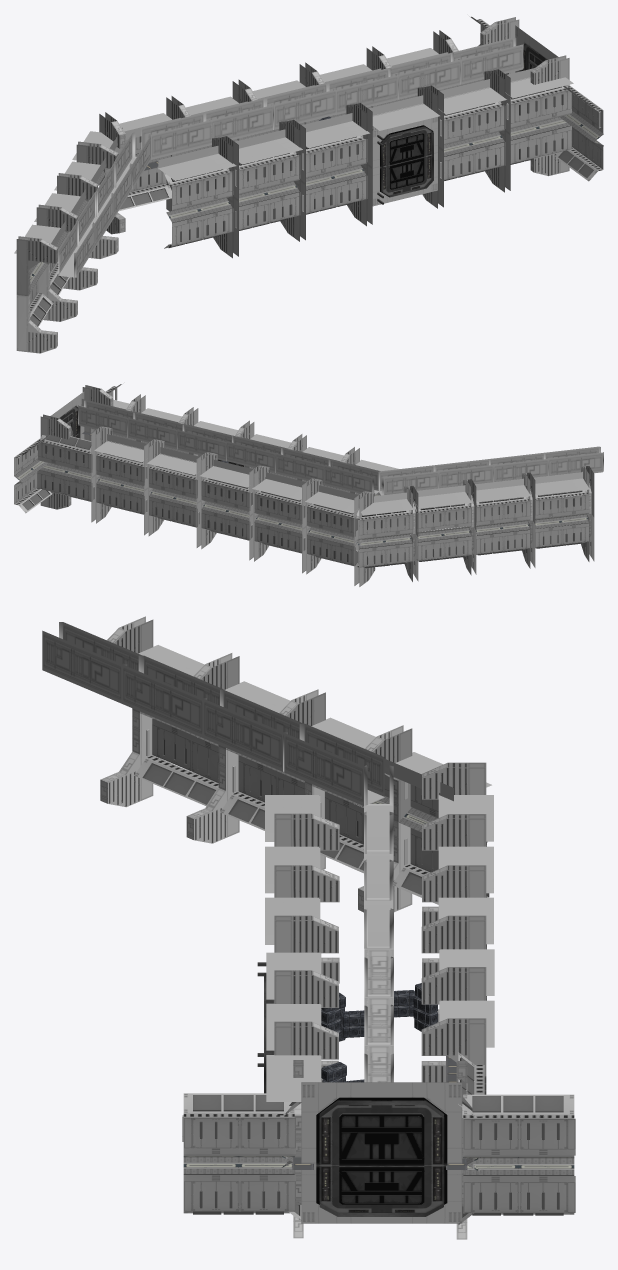
File: env_mana_sith_base_01_pre.glb
The picture shows the model from 3 angles, top to bottom: view 1: azimuth 30°, elevation 25°; view 2: azimuth 150°, elevation 25°; view 3: azimuth 270°, elevation 25°; orthographic projection. The views are drawn at different scales.
Parts seen in each view (by area): view 1: mana_ceiling_02b_cluster_mesh, mana_wall_01_cluster_mesh (×2), mana_wall_01_mesh (×7), mana_pillar_01_cluster_mesh, mana_pillar_01_cluster_mesh (1), mana_arch_door_01a_mesh (×2), mana_arch_door_01b_mesh (×3), mana_ceiling_02b_mesh (7) (×2), mana_ceiling_01_mesh (2), mana_ceiling_01_mesh (1), mana_ceiling_01_mesh, mana_pillar_01_mesh (5) (×2) (+9 smaller); view 2: mana_wall_01_cluster_mesh (×2), mana_ceiling_02b_cluster_mesh, mana_wall_01_mesh (×9), mana_pillar_01_cluster_mesh, mana_pillar_01_cluster_mesh (1), mana_pillar_01_mesh (13) (×3), mana_ceiling_01_mesh (2), mana_ceiling_01_mesh (1), mana_ceiling_01_mesh, mana_pillar_01_mesh (14) (×2), mana_ceiling_02b_mesh, mana_ceiling_02b_mesh (13) (+8 smaller); view 3: mana_ceiling_02b_cluster_mesh, mana_wall_01_mesh (×5), mana_pillar_01_cluster_mesh, mana_arch_door_01a_mesh (×2), mana_wall_01_cluster_mesh (×2), mana_arch_door_01b_mesh (×2), mana_pillar_01_cluster_mesh (1), mana_pillar_01_mesh (5) (×2), mana_ceiling_02b_mesh (7) (×2), mana_pillar_01_mesh (13), mana_pillar_01_mesh (6), mana_pillar_01_mesh (+7 smaller).
Boxes of the visible parts, <box> form: mana_ceiling_02b_cluster_mesh: <box>14,80,369,277</box>; mana_wall_01_cluster_mesh (×2): <box>30,122,367,326</box>; mana_wall_01_mesh (×7): <box>119,85,603,211</box>; mana_pillar_01_cluster_mesh: <box>16,79,305,296</box>; mana_pillar_01_cluster_mesh (1): <box>16,173,305,353</box>; mana_arch_door_01a_mesh (×2): <box>380,125,433,197</box>; mana_arch_door_01b_mesh (×3): <box>372,25,558,206</box>; mana_ceiling_02b_mesh (7) (×2): <box>439,68,573,114</box>; mana_ceiling_01_mesh (2): <box>451,37,523,84</box>; mana_ceiling_01_mesh (1): <box>388,53,461,99</box>; mana_ceiling_01_mesh: <box>326,68,398,114</box>; mana_pillar_01_mesh (5) (×2): <box>417,69,510,150</box>; mana_wall_01_cluster_mesh (×2): <box>201,467,588,568</box>; mana_ceiling_02b_cluster_mesh: <box>200,434,603,515</box>; mana_wall_01_mesh (×9): <box>14,435,357,565</box>; mana_pillar_01_cluster_mesh: <box>249,434,594,542</box>; mana_pillar_01_cluster_mesh (1): <box>249,513,594,586</box>; mana_pillar_01_mesh (13) (×3): <box>82,385,216,549</box>; mana_ceiling_01_mesh (2): <box>78,400,135,437</box>; mana_ceiling_01_mesh (1): <box>128,412,184,449</box>; mana_ceiling_01_mesh: <box>177,424,233,461</box>; mana_pillar_01_mesh (14) (×2): <box>40,414,163,536</box>; mana_ceiling_02b_mesh: <box>147,447,199,475</box>; mana_ceiling_02b_mesh (13): <box>94,434,146,462</box>; mana_ceiling_02b_cluster_mesh: <box>42,622,493,948</box>; mana_wall_01_mesh (×5): <box>183,1052,575,1215</box>; mana_pillar_01_cluster_mesh: <box>107,616,486,902</box>; mana_arch_door_01a_mesh (×2): <box>316,1097,447,1212</box>; mana_wall_01_cluster_mesh (×2): <box>134,712,489,1000</box>; mana_arch_door_01b_mesh (×2): <box>301,1082,462,1223</box>; mana_pillar_01_cluster_mesh (1): <box>100,710,439,1022</box>; mana_pillar_01_mesh (5) (×2): <box>274,970,338,1059</box>; mana_ceiling_02b_mesh (7) (×2): <box>266,1003,321,1101</box>; mana_pillar_01_mesh (13): <box>421,1018,486,1075</box>; mana_pillar_01_mesh (6): <box>274,915,338,953</box>; mana_pillar_01_mesh: <box>421,915,486,953</box>.
Size of the model in its own units: 68.72 by 12.64 by 33.27.
11 materials, 11 textured.
